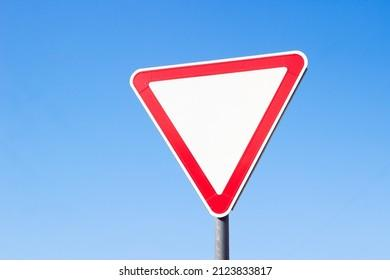Give Way: (126, 60, 320, 223)
